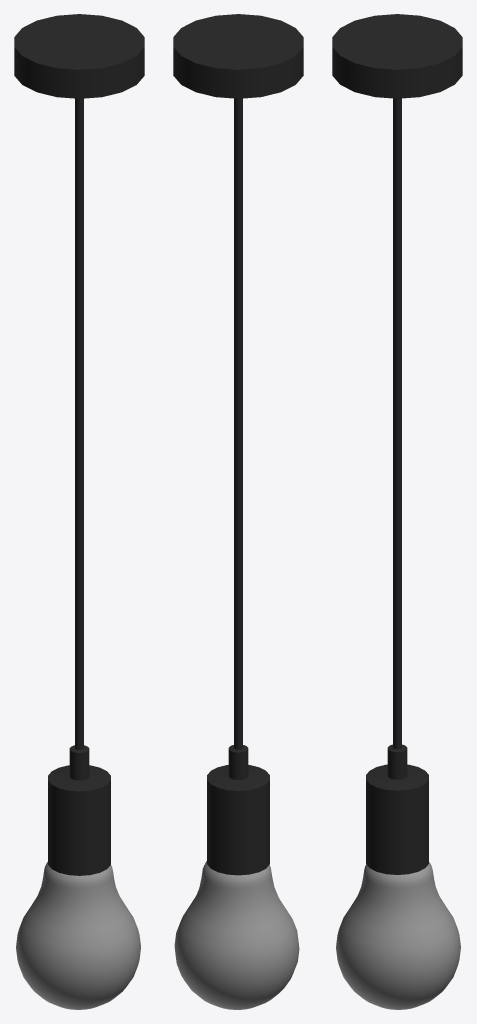
The model's file is Ceiling Lamp 18.FBX.
The picture shows the model from 3 angles, left to right: view 1: azimuth 90°, elevation 25°; view 2: azimuth 150°, elevation 25°; view 3: azimuth 270°, elevation 25°; orthographic projection.
Parts seen in each view (by area): view 1: ceiling lamp 18; view 2: ceiling lamp 18; view 3: ceiling lamp 18.
Part boxes in pixels (<box>): ceiling lamp 18: <box>14,14,144,1009</box>; ceiling lamp 18: <box>173,14,303,1009</box>; ceiling lamp 18: <box>332,14,462,1009</box>.
Bounding box in the file's own units: 8.16 × 65.55 × 8.04.
2 materials, 1 textured.
